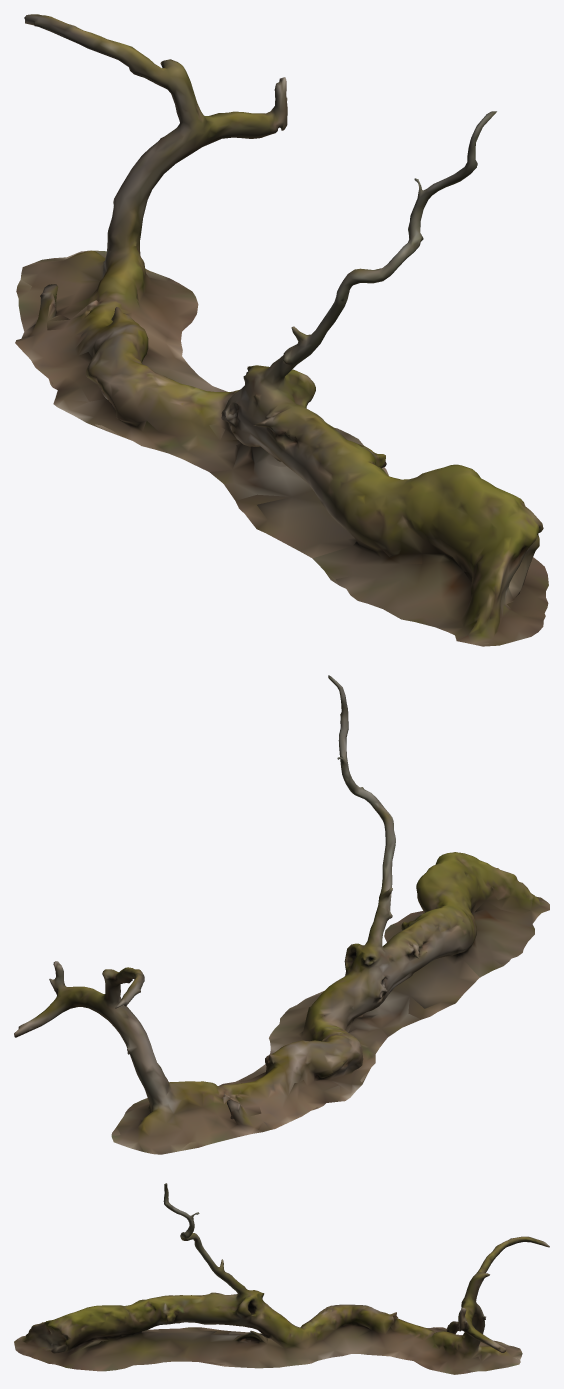
Rendered from SM_Log_L_01.fbx.
The picture shows the model from 3 angles, top to bottom: view 1: azimuth 30°, elevation 25°; view 2: azimuth 150°, elevation 25°; view 3: azimuth 270°, elevation 25°; orthographic projection. The views are drawn at different scales.
Visible parts, largest first — view 1: Log_L_02_LOW.002; view 2: Log_L_02_LOW.002; view 3: Log_L_02_LOW.002.
Part boxes in pixels (x1,y1,x2,y2): Log_L_02_LOW.002: (15,14,548,646); Log_L_02_LOW.002: (14,675,549,1154); Log_L_02_LOW.002: (14,1183,549,1374).
Size of the model in its own units: 370 by 407 by 1011.
